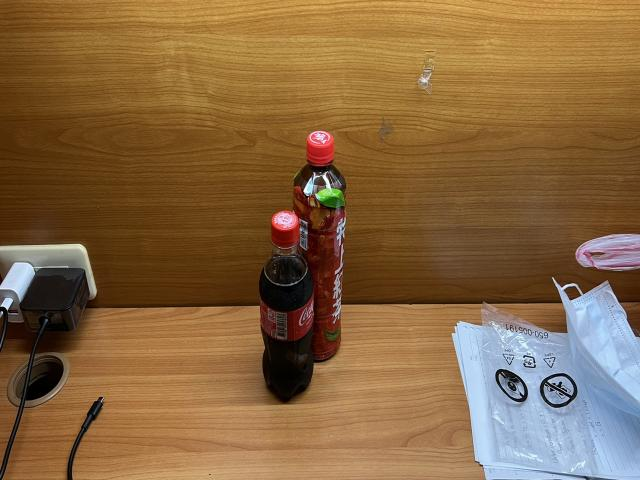bottle: (291, 128, 349, 364), (258, 211, 317, 406)
